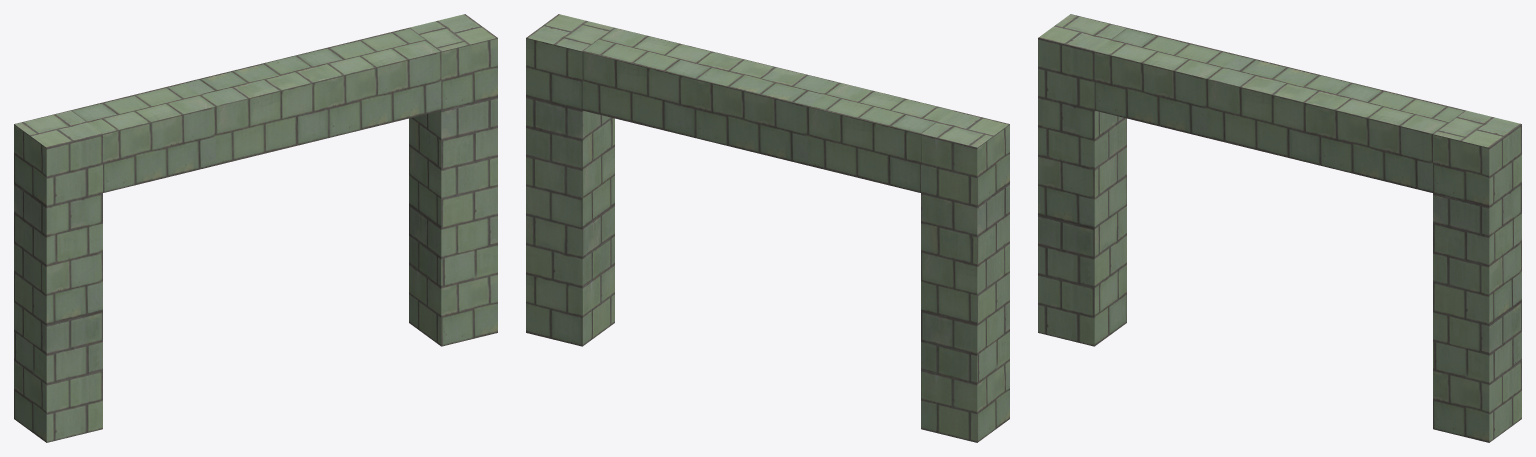
File: wallhole.obj
3 views of the same model, side by side, from view 1: azimuth 30°, elevation 25°; view 2: azimuth 150°, elevation 25°; view 3: azimuth 330°, elevation 25° (orthographic).
Parts seen in each view (by area): view 1: wallhole; view 2: wallhole; view 3: wallhole.
Boxes of the visible parts, x1,y1,x2,y2 form: wallhole: (14, 14, 497, 442); wallhole: (526, 14, 1009, 442); wallhole: (1038, 14, 1521, 442).
Bounding box in the file's own units: 8 × 5 × 1.
1 material, 1 textured.
